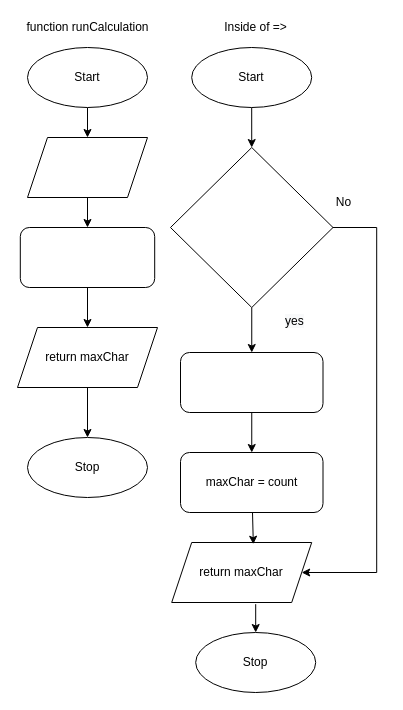
The diagram is 403 pixels wide and 710 high, and some of its shapes have lost their labels. The shapes that lost their labels are listed below. From the top down, each one's centre as x and y in pixels, then its label:
At (87,167): "Get runWord:".
At (251,227): "if (count < charCount)".
At (87,257): "userInput.split(' ') .forEach((value)".
At (251,382): "count = charCount".
